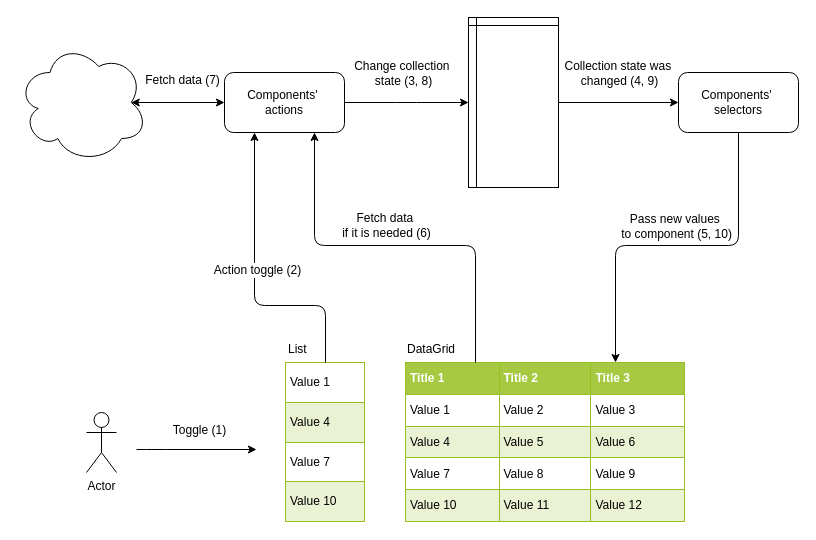
This 816x540 diagram has some shape labels left out. Each missing label, with the box of its shape:
Spring Data REST: (16, 42, 148, 162)
State: collections components etc.: (468, 16, 558, 188)
